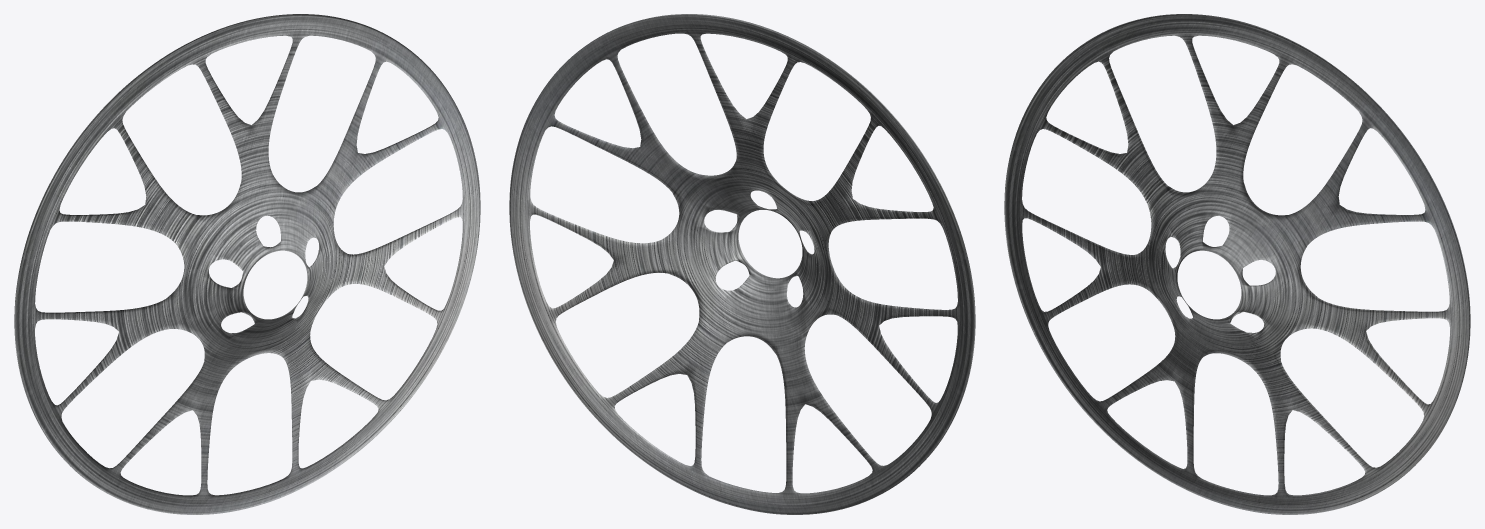
The model's file is model2_front.glb.
3 renders of one model, left to right at view 1: azimuth 30°, elevation 25°; view 2: azimuth 150°, elevation 25°; view 3: azimuth 330°, elevation 25°, orthographic.
Parts seen in each view (by area): view 1: Tire; view 2: Tire; view 3: Tire.
Part boxes in pixels (x1,y1,x2,y2): Tire: (14, 14, 480, 514); Tire: (509, 14, 975, 514); Tire: (1004, 14, 1470, 514).
Bounding box in the file's own units: 1.08 × 1.08 × 0.1126.
Materials: 2 (2 with a texture image).
